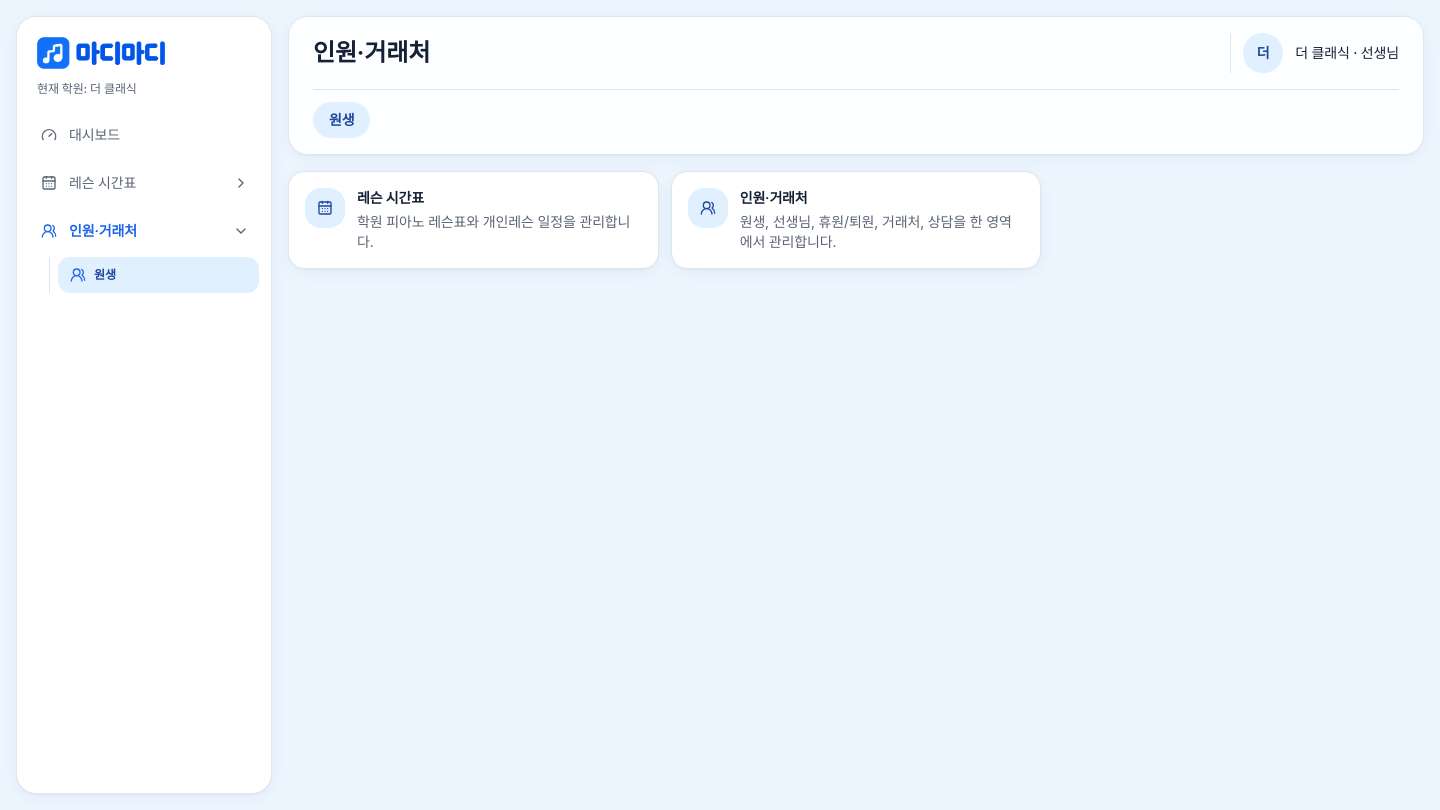
Test: AppShell › teacher에게는 거래처와 수입 관리성 메뉴를 숨기고 아직 없는 내 급여 링크도 보여주지 않는다
The image size is (1440, 810).
Click the button named "레슨 시간표 하위 메뉴 펼치기": click(241, 183) [223,165,259,201]
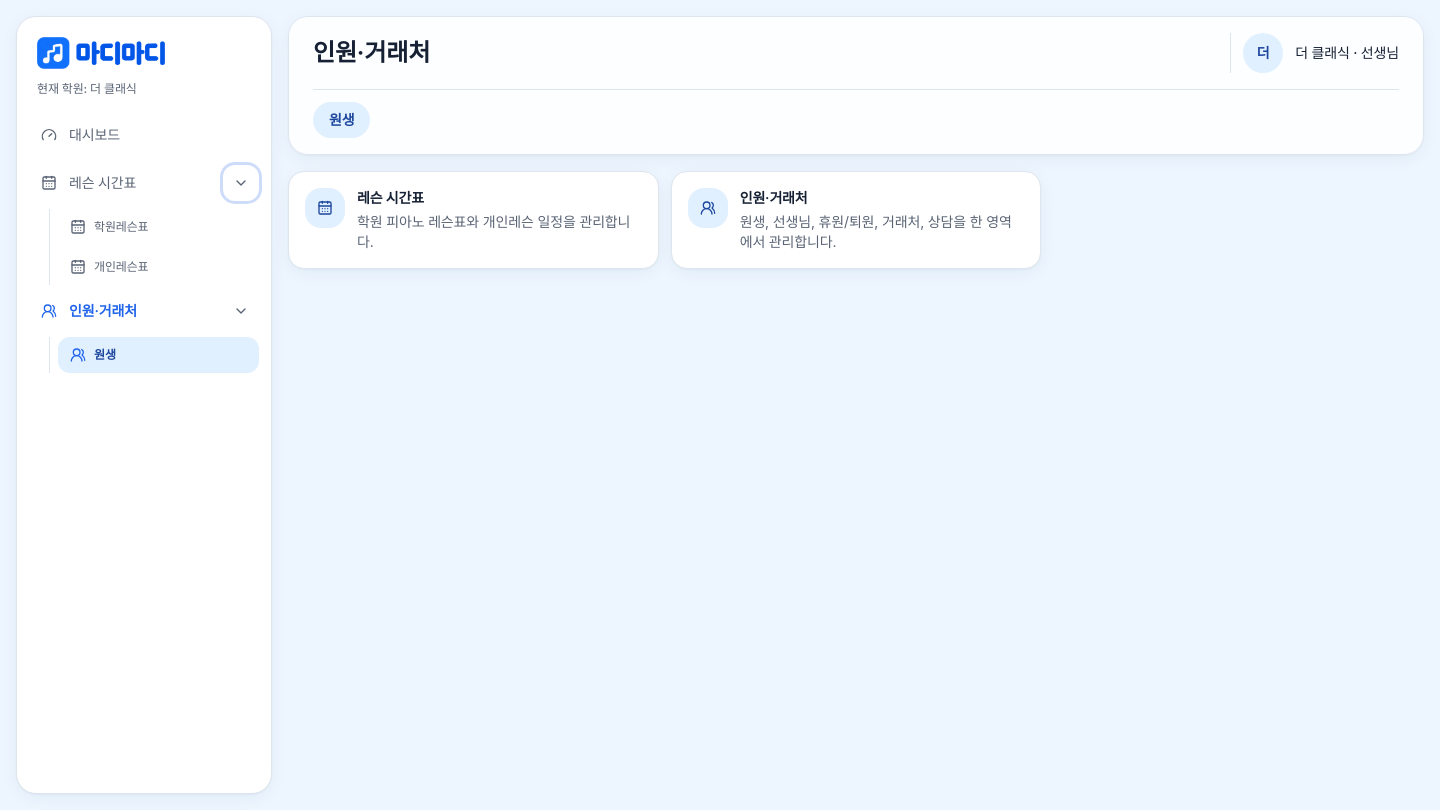
Expected: the text "레슨 시간표" below "대시보드" is shown, [69,174,136,191]
Result: the text "학원레슨표" is shown at [94,219,148,235]
Result: the text "개인레슨표" is shown at [94,259,148,275]
